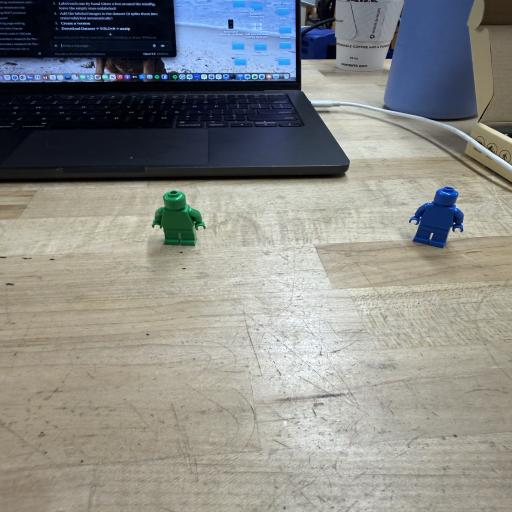blue-minifig: (409, 186, 463, 248)
green-minifig: (152, 190, 205, 245)
